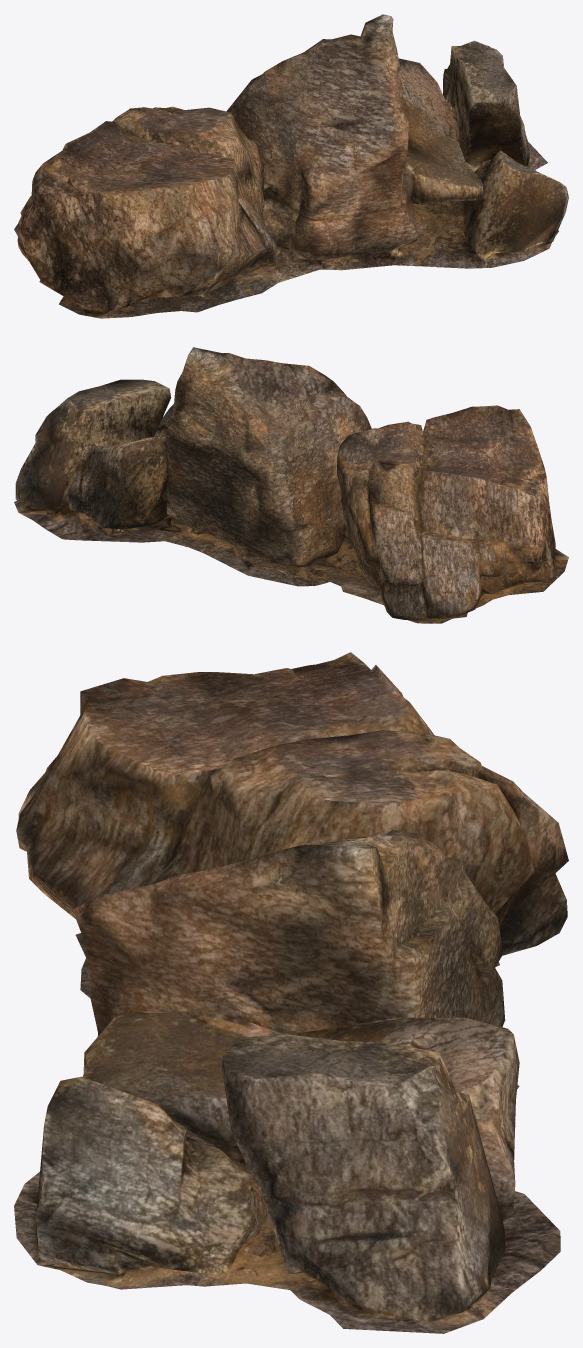
File: boulder.glb
3 views of the same model, one above another, from view 1: azimuth 30°, elevation 25°; view 2: azimuth 150°, elevation 25°; view 3: azimuth 270°, elevation 25° (orthographic). The views are drawn at different scales.
Visible parts, largest first — view 1: boulder_02; view 2: boulder_02; view 3: boulder_02.
Boxes of the visible parts, box(x1,y1,x2,y2) form: boulder_02: box(14, 14, 568, 318); boulder_02: box(14, 347, 568, 623); boulder_02: box(14, 652, 568, 1333).
Bounding box in the file's own units: 3.72 × 1.3 × 1.82.
1 material, 1 textured.
